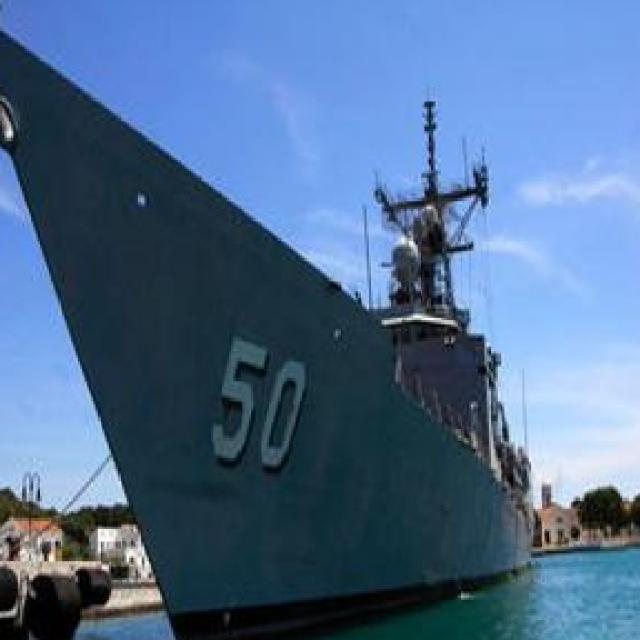navalvessels: (0, 6, 544, 640)
